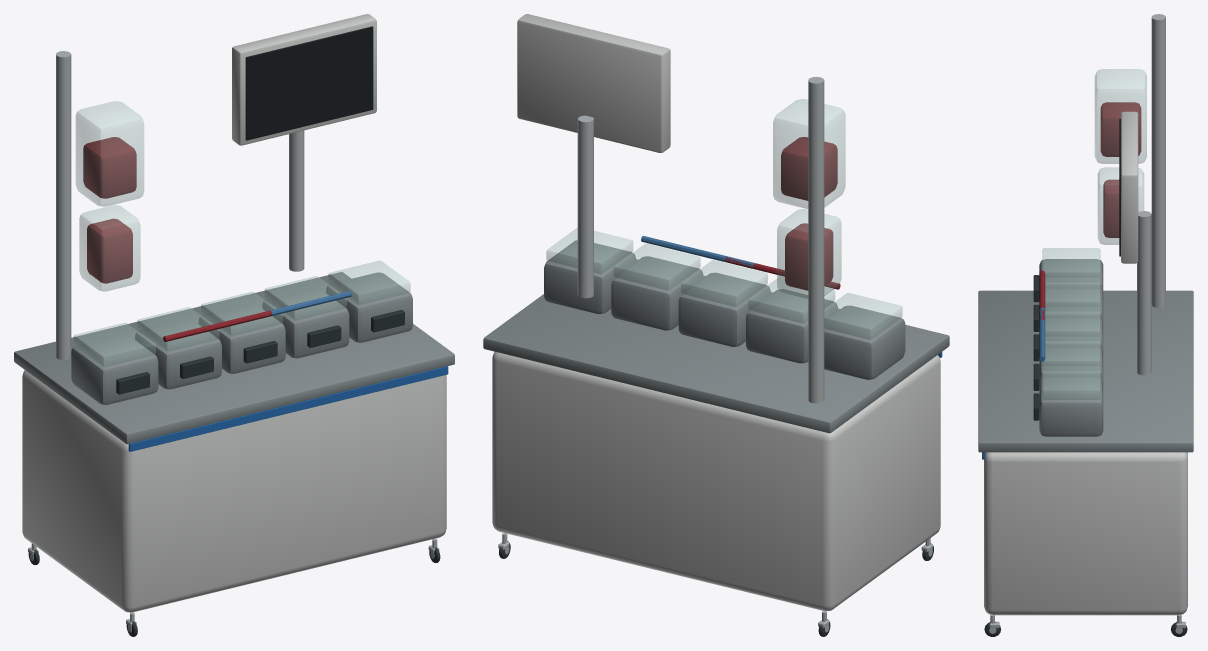
File: sc-heart-lung-machine.glb
3 renders of one model, left to right at view 1: azimuth 30°, elevation 25°; view 2: azimuth 150°, elevation 25°; view 3: azimuth 270°, elevation 25°, orthographic. The views are drawn at different scales.
Parts seen in each view (by area): view 1: sc-heart-lung-machine; view 2: sc-heart-lung-machine; view 3: sc-heart-lung-machine.
Boxes of the visible parts, left/top/right/bottom form: sc-heart-lung-machine: left=14, top=14, right=454, bottom=636; sc-heart-lung-machine: left=483, top=14, right=949, bottom=636; sc-heart-lung-machine: left=978, top=14, right=1193, bottom=636.
Bounding box in the file's own units: 1.24 × 1.85 × 0.74.
